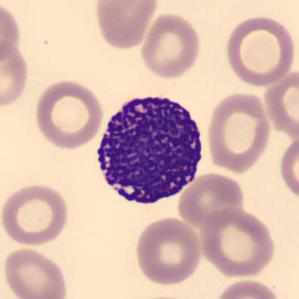Basophil: (89, 86, 211, 212)
RBC: (196, 206, 278, 278), (222, 12, 298, 89), (204, 90, 272, 173), (32, 78, 105, 150), (132, 215, 203, 287), (0, 181, 71, 247), (138, 12, 204, 80), (176, 171, 246, 228), (0, 244, 70, 299), (92, 0, 161, 51), (265, 73, 299, 144), (0, 36, 31, 110), (212, 277, 283, 299), (0, 0, 22, 66), (278, 133, 298, 204), (130, 293, 196, 299)
